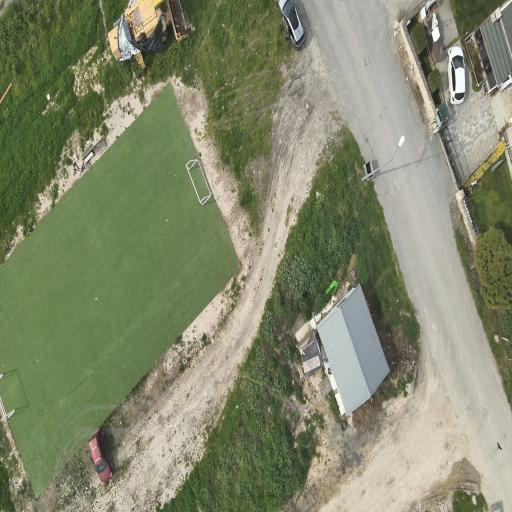car: (279, 0, 305, 49), (89, 430, 112, 483), (448, 46, 465, 104)
harvester: (108, 0, 190, 68)
